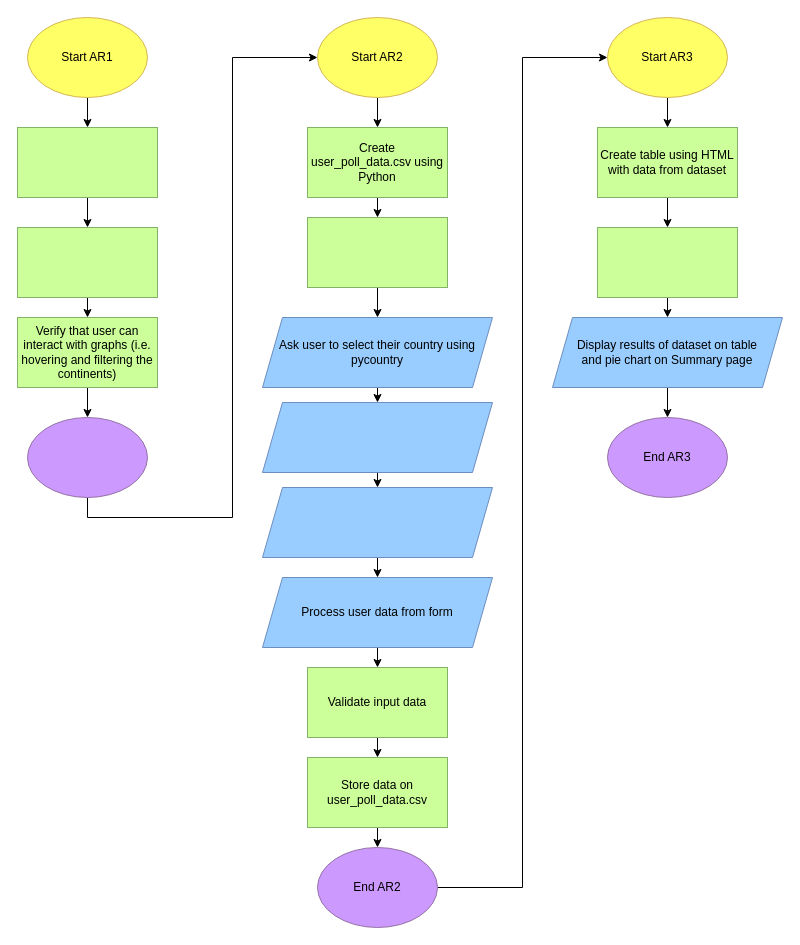
This 800x945 diagram has some shape labels left out. The shapes that lost their labels are listed below. From the top down, each one's centre as x and y in pixels, then its label:
At [87,162]: "Import Plotly".
At [87,262]: "Use Plotly to create bar, line and sunburst charts and a scatter plot".
At [377,252]: "Create form using JavaScript, Python and HTML".
At [667,262]: "Create pie chart using Plotly with data from dataset".
At [87,457]: "End AR1".
At [377,437]: "Ask user if they are happy (Y/N)".
At [377,522]: "Ask user to rate their happiness from 1-7".
